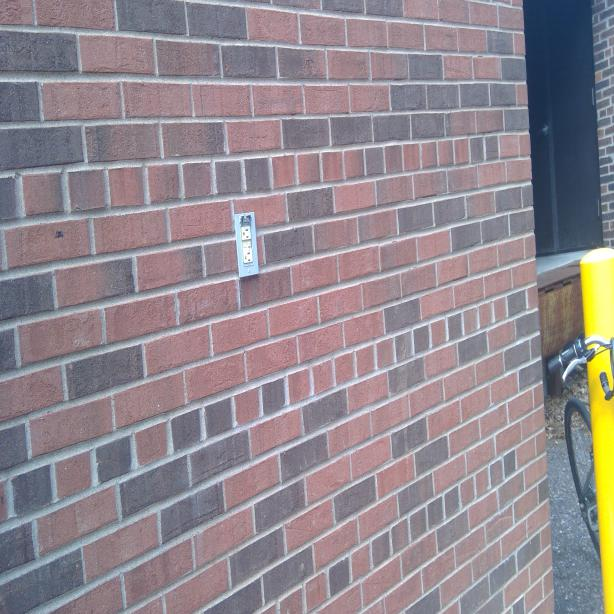typeb: (242, 248, 256, 266), (239, 224, 251, 240)
